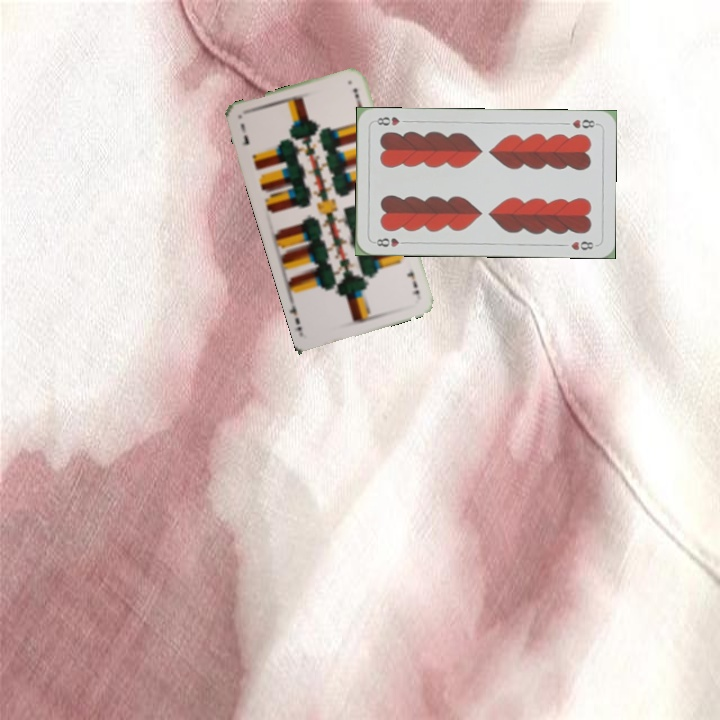E7: (403, 264, 422, 297), (237, 120, 252, 148)
H8: (370, 234, 410, 249), (568, 115, 600, 131)
